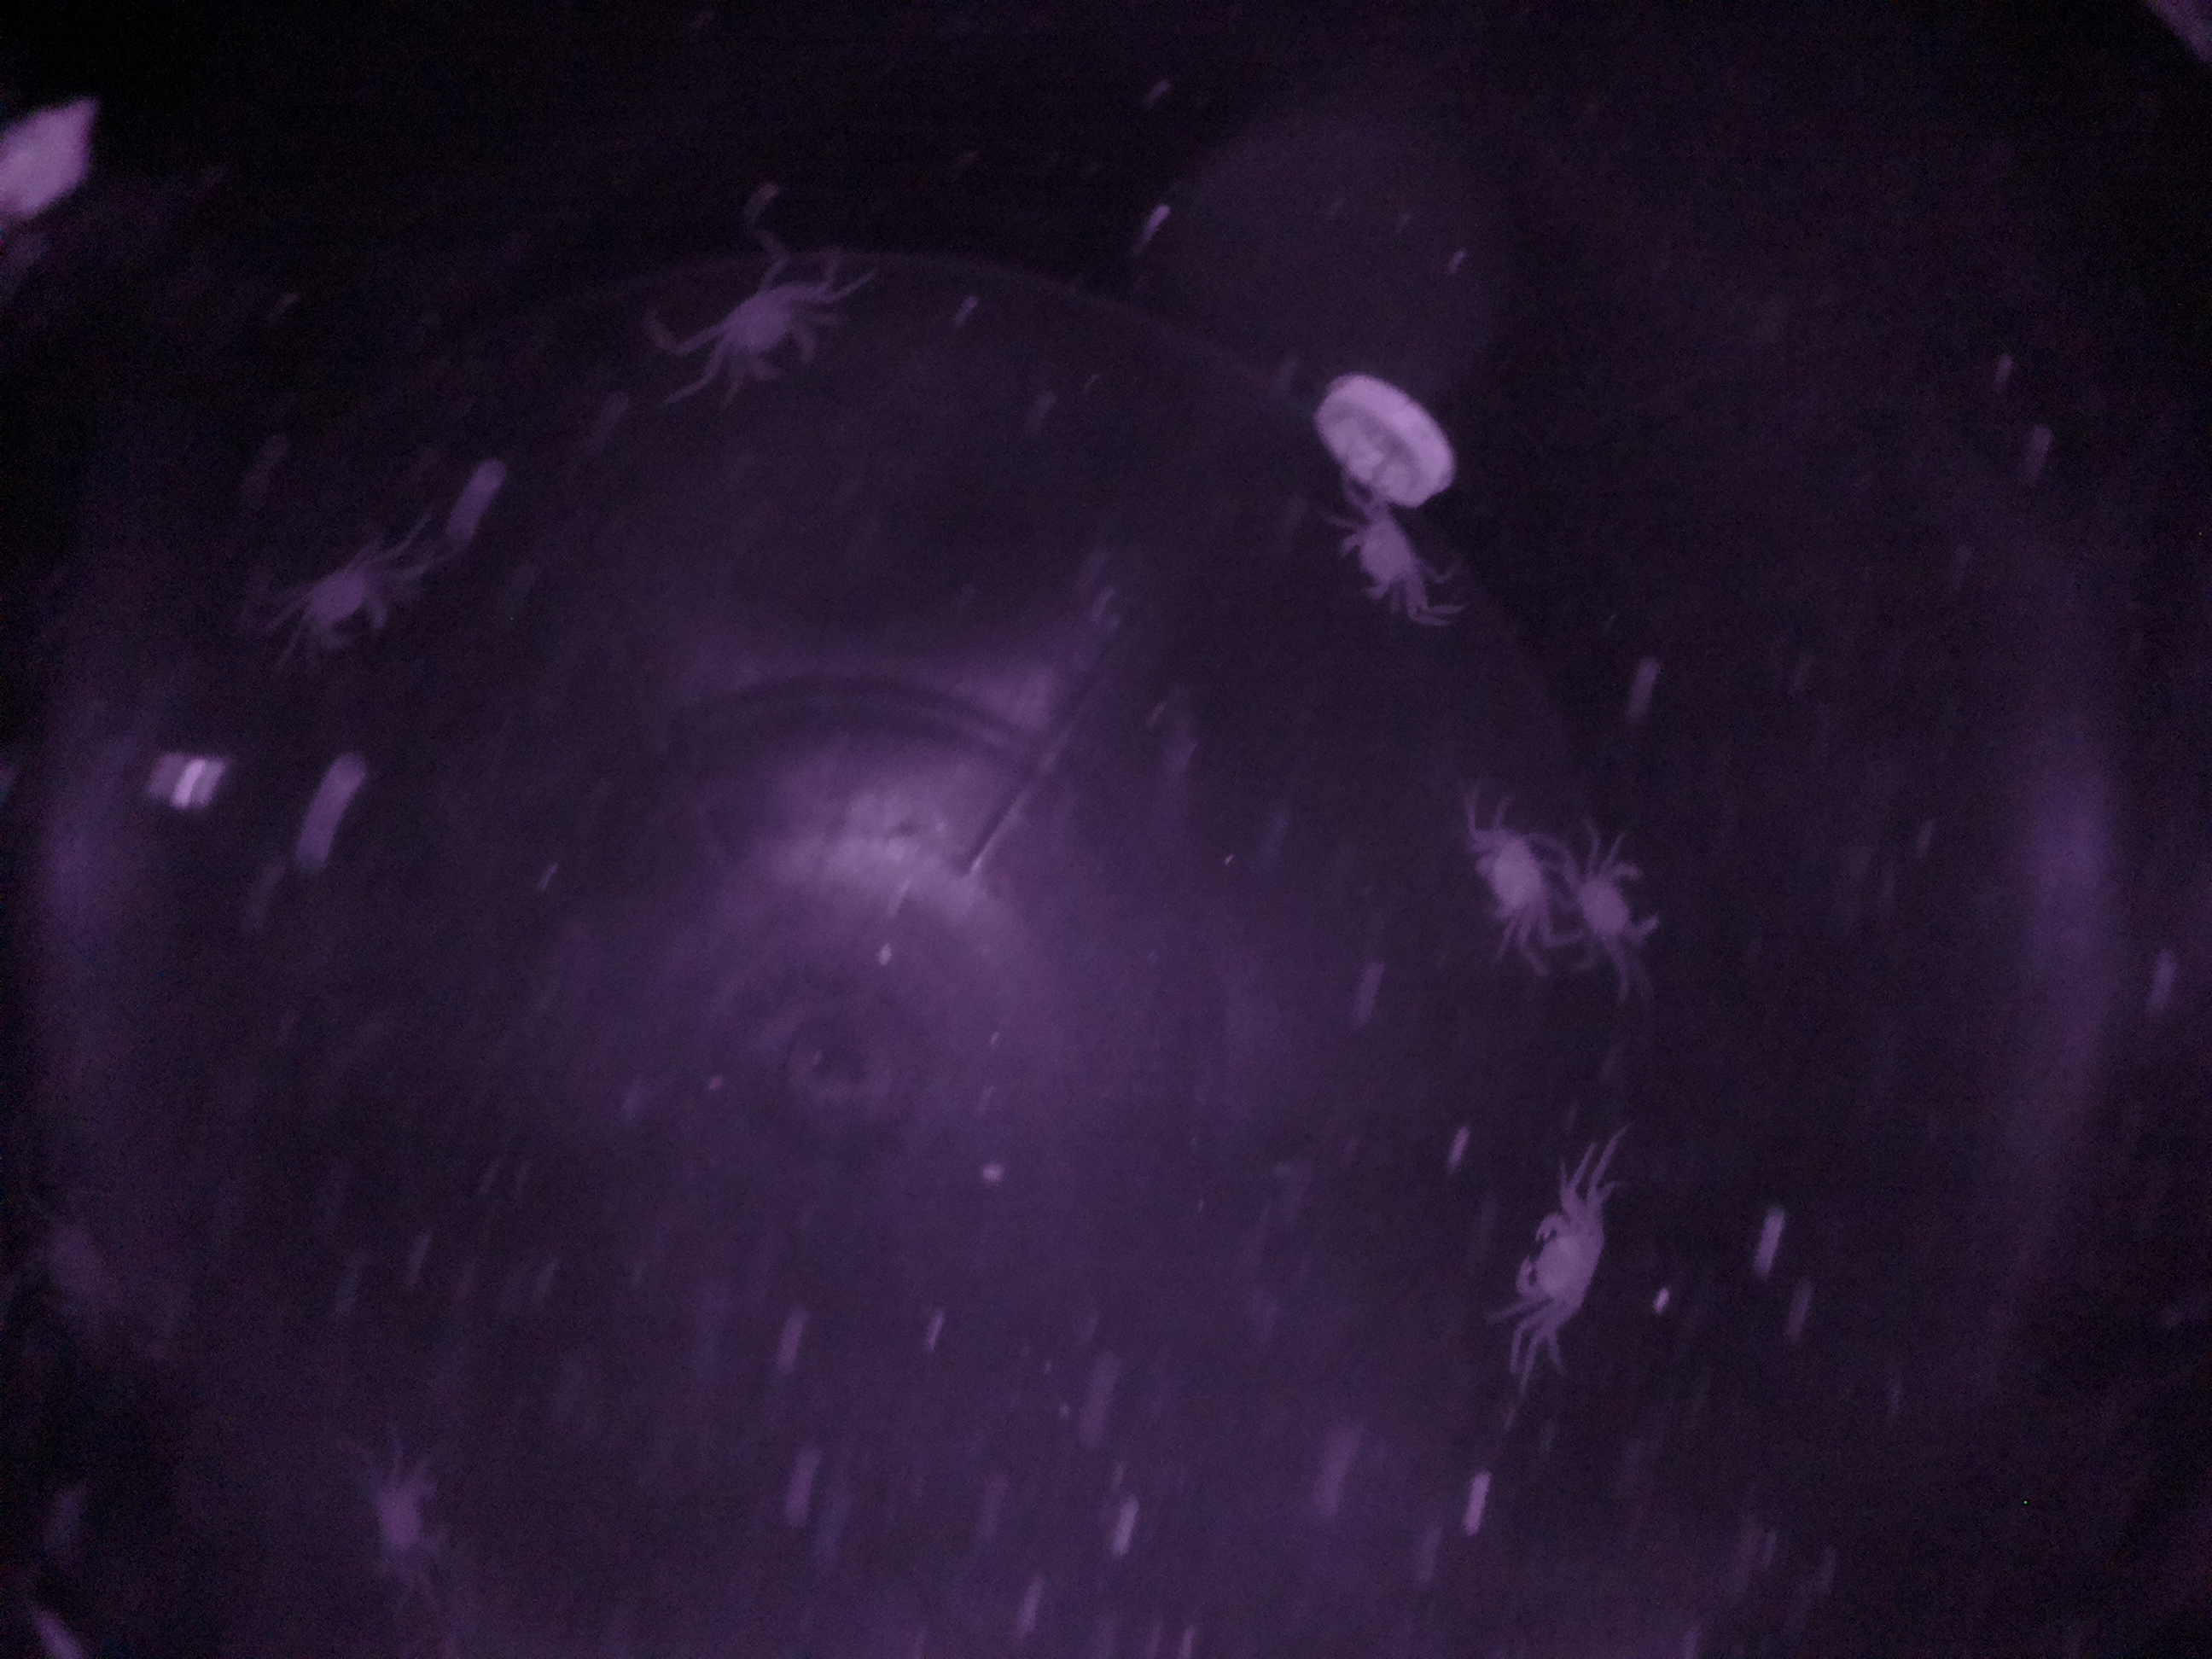Crab: (674, 239, 846, 410), (1494, 1185, 1623, 1354), (1548, 831, 1681, 974), (1453, 800, 1562, 948), (1339, 502, 1446, 624)
